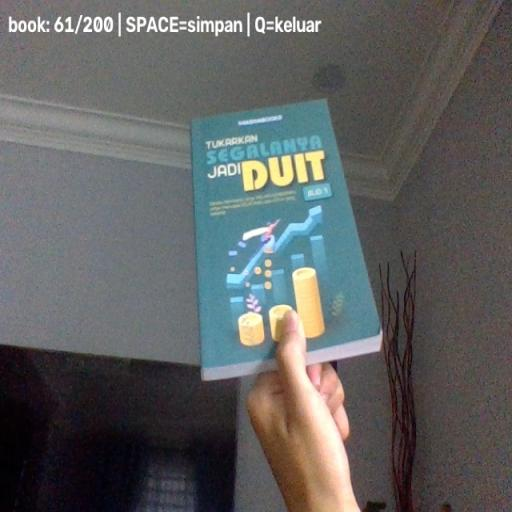Book: (189, 98, 382, 383)
